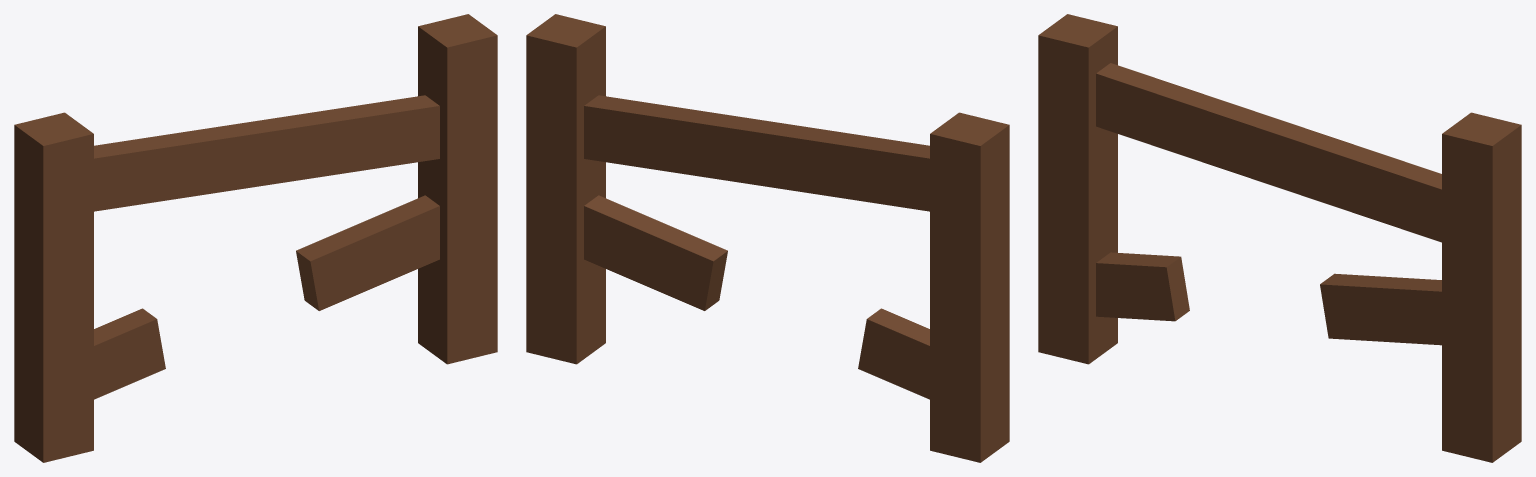
Rendered from obstacles_fance_5_v3.fbx.
The picture shows the model from 3 angles, left to right: view 1: azimuth 30°, elevation 25°; view 2: azimuth 150°, elevation 25°; view 3: azimuth 330°, elevation 25°; orthographic projection.
Parts seen in each view (by area): view 1: Cube; view 2: Cube; view 3: Cube.
Part boxes in pixels (x1,y1,x2,y2): Cube: (14,14,497,462); Cube: (526,14,1009,462); Cube: (1038,14,1521,462).
Size of the model in its own units: 450 by 300 by 50.
